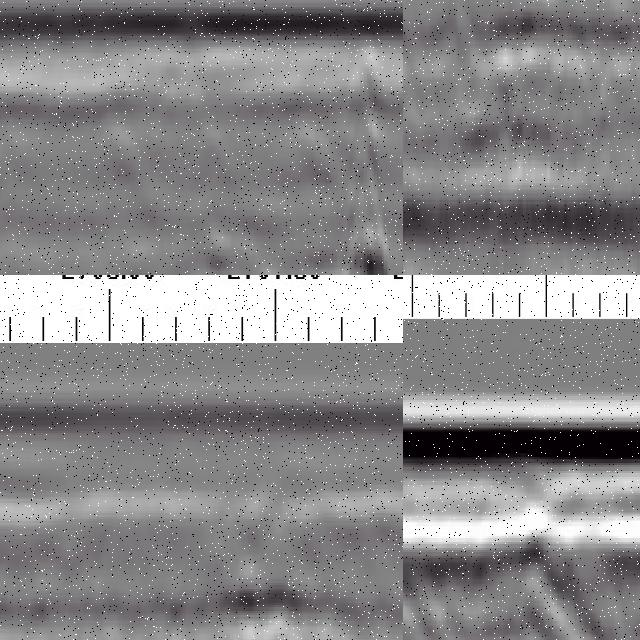crack: (346, 44, 393, 276)
loose: (404, 503, 615, 640), (153, 578, 365, 640)
